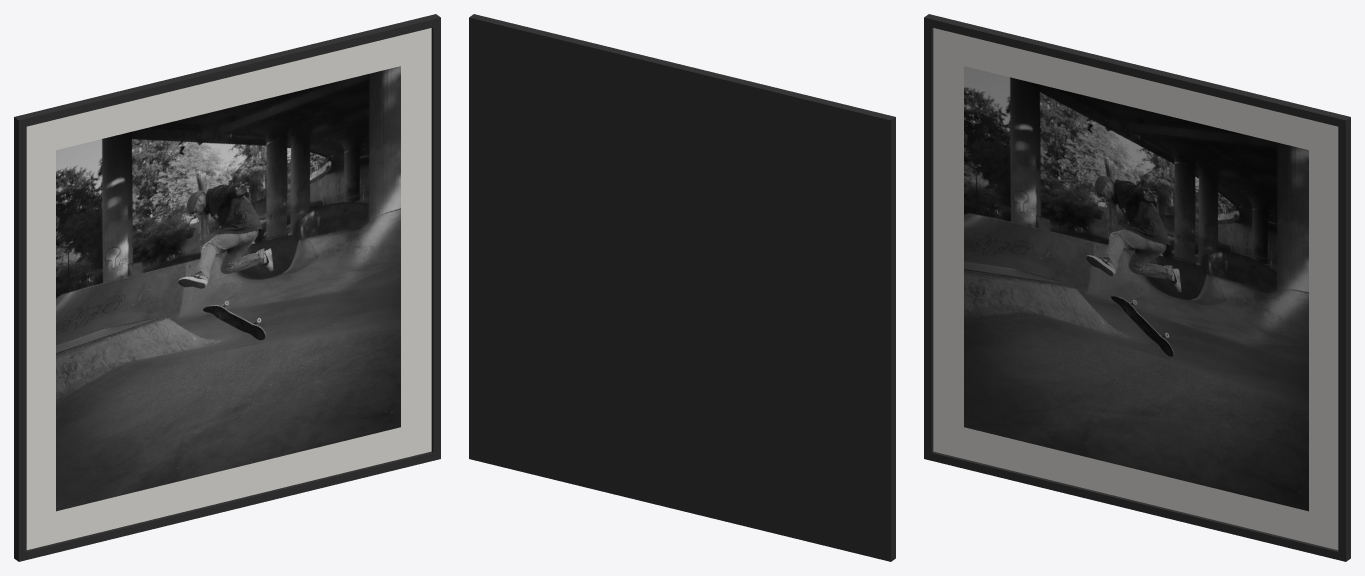
File: kickflip-90.gltf
3 renders of one model, left to right at view 1: azimuth 30°, elevation 25°; view 2: azimuth 150°, elevation 25°; view 3: azimuth 330°, elevation 25°, orthographic.
Parts seen in each view (by area): view 1: tavla; view 2: tavla; view 3: tavla.
Boxes of the visible parts, x1=… form: tavla: x1=14, y1=14, x2=440, y2=561; tavla: x1=469, y1=14, x2=895, y2=561; tavla: x1=924, y1=14, x2=1350, y2=561.
Bounding box in the file's own units: 1.1 × 1.1 × 0.022.
Materials: 3 (1 with a texture image).
